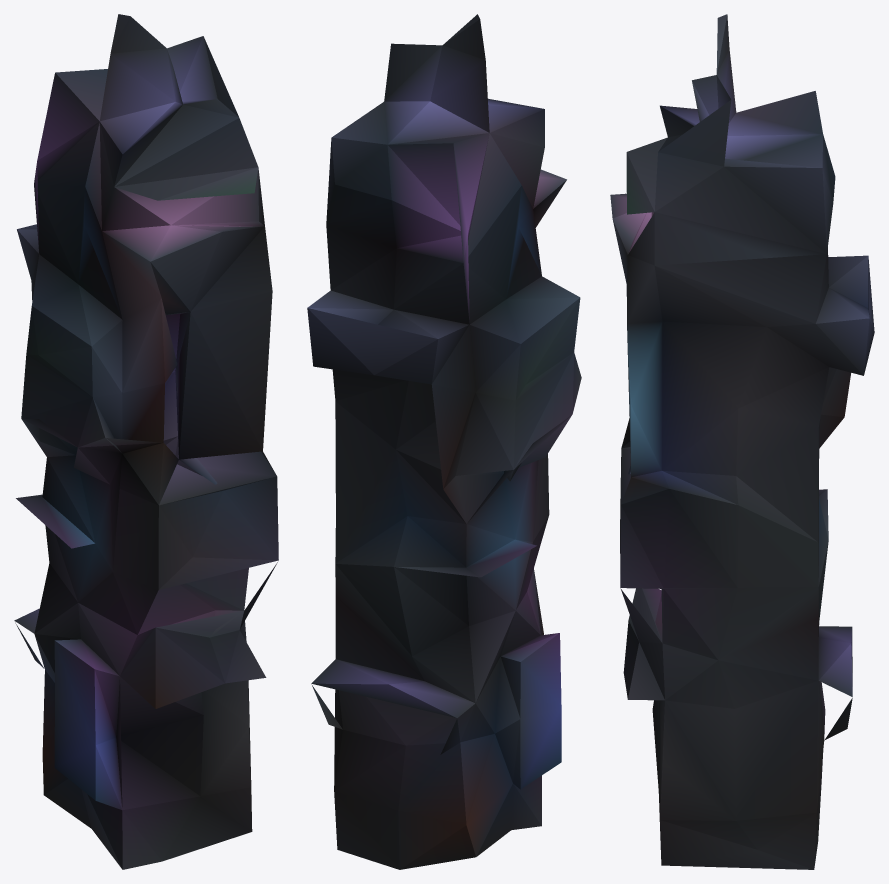
The model's file is cyber-tower.glb.
The picture shows the model from 3 angles, left to right: view 1: azimuth 30°, elevation 25°; view 2: azimuth 150°, elevation 25°; view 3: azimuth 270°, elevation 25°; orthographic projection.
Parts seen in each view (by area): view 1: cyber-tower-far; view 2: cyber-tower-far; view 3: cyber-tower-far.
Boxes of the visible parts, x1=… form: cyber-tower-far: x1=14, y1=14, x2=278, y2=869; cyber-tower-far: x1=307, y1=14, x2=581, y2=869; cyber-tower-far: x1=610, y1=14, x2=874, y2=869.
Size of the model in its own units: 7.61 by 34.78 by 10.26.
